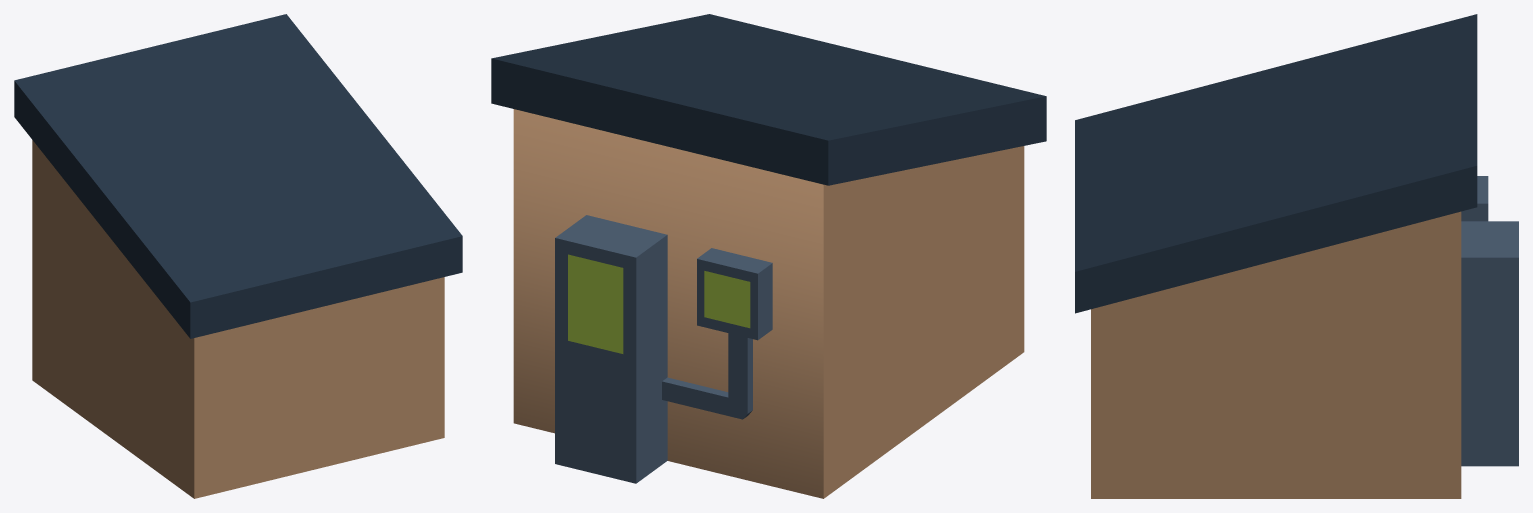
The model's file is Transformator.fbx.
The picture shows the model from 3 angles, left to right: view 1: azimuth 30°, elevation 25°; view 2: azimuth 150°, elevation 25°; view 3: azimuth 270°, elevation 25°; orthographic projection. The views are drawn at different scales.
Parts seen in each view (by area): view 1: Transformtor; view 2: Transformtor; view 3: Transformtor.
Boxes of the visible parts, <box> form: Transformtor: <box>14,14,462,498</box>; Transformtor: <box>491,14,1046,498</box>; Transformtor: <box>1075,14,1518,498</box>.
Size of the model in its own units: 17.58 by 18.34 by 21.75.
